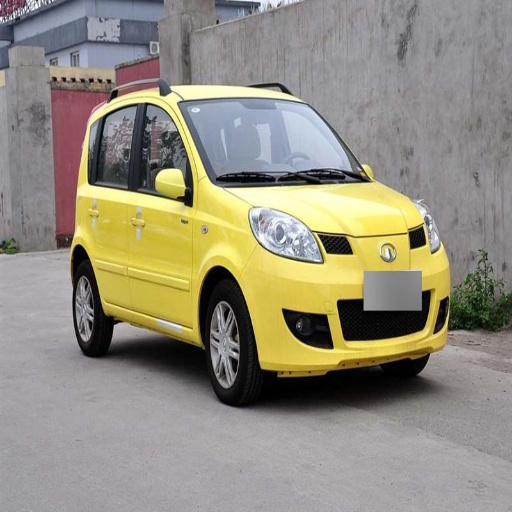front_bumper: (241, 224, 446, 375)
front_right_door: (131, 101, 192, 323)
front_right_light: (248, 205, 323, 263)
